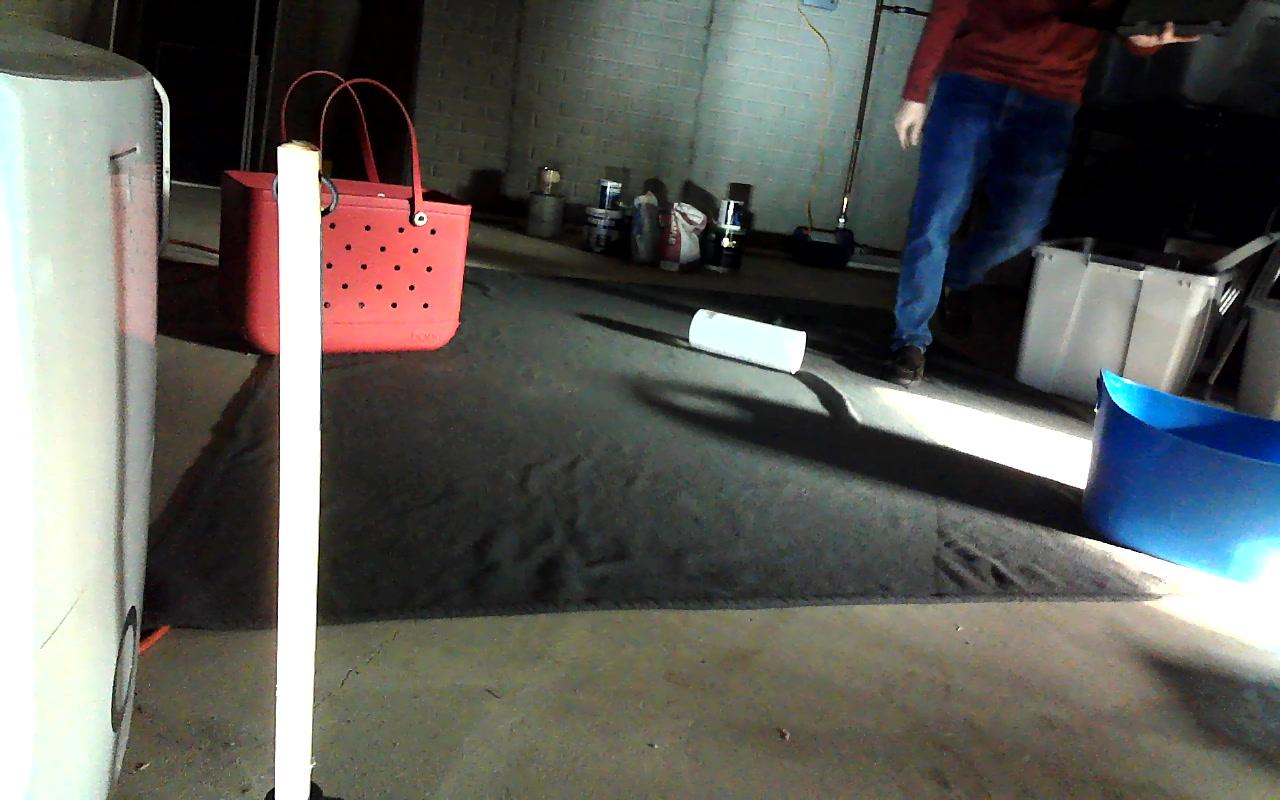coral: (689, 308, 805, 375)
